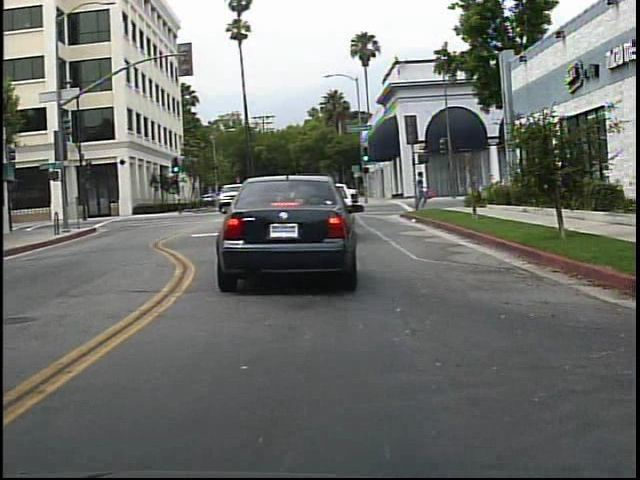person: (414, 171, 430, 216)
